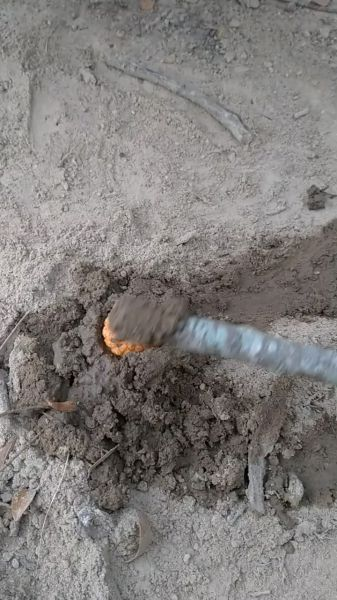eggs: (98, 314, 165, 364)
